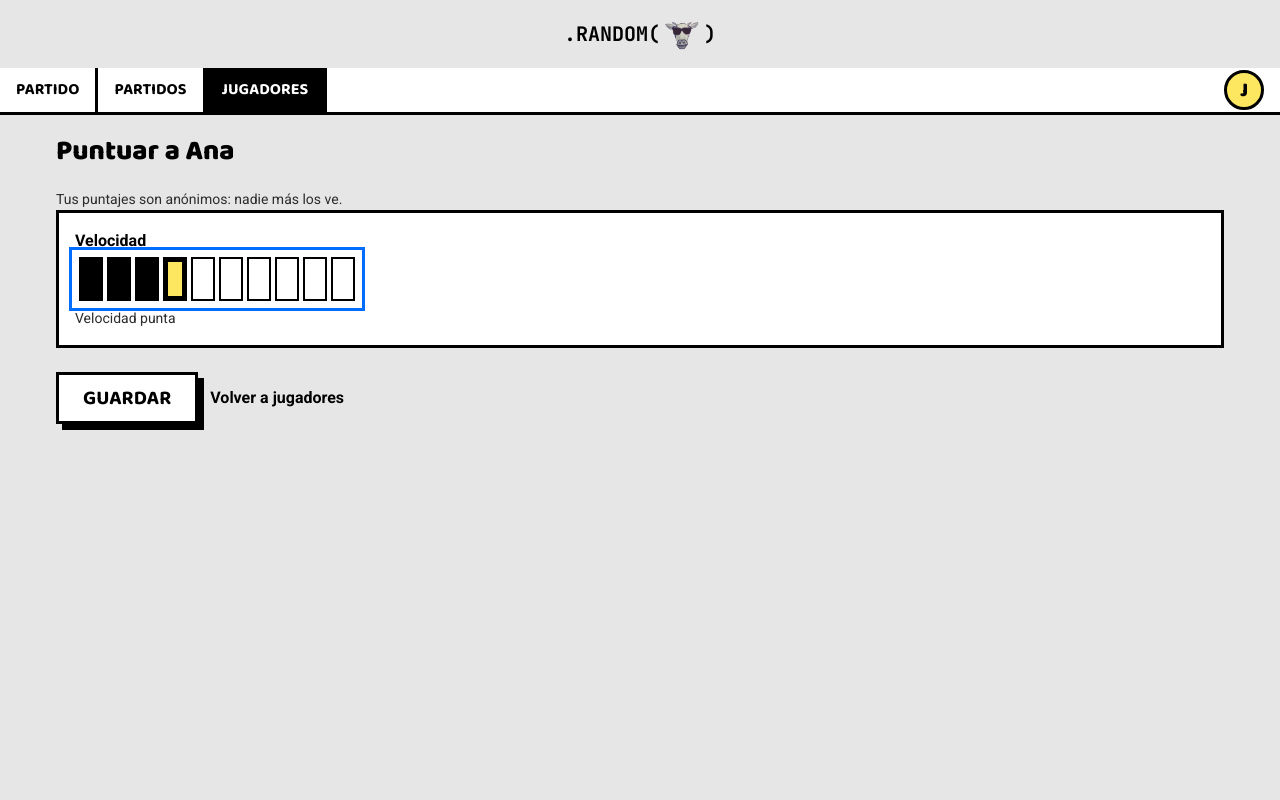
it: puntuar › cambia el valor con el teclado y guarda solo lo puntuado
The width and height of the screenshot is (1280, 800).
Press Arrowright Arrowright
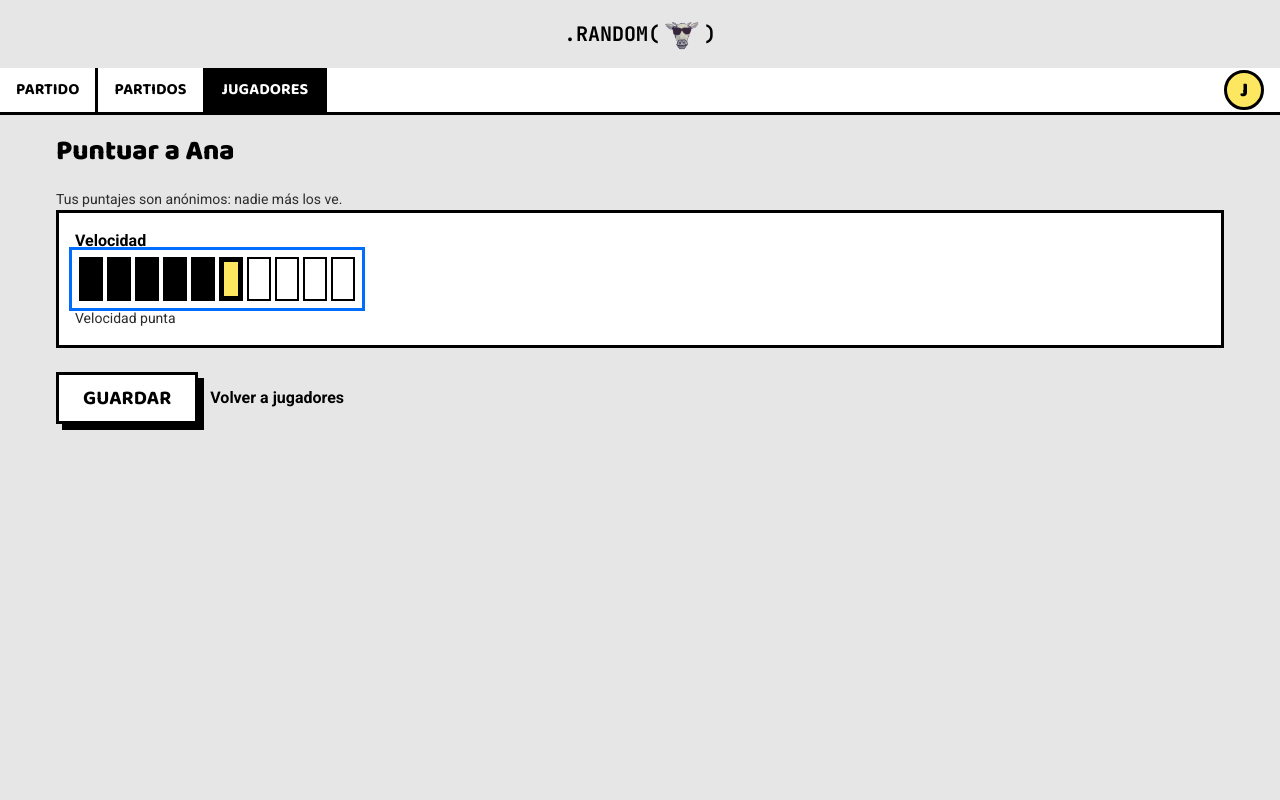
Click the button "Guardar": (127, 398) top-left (56, 372), bottom-right (198, 424)
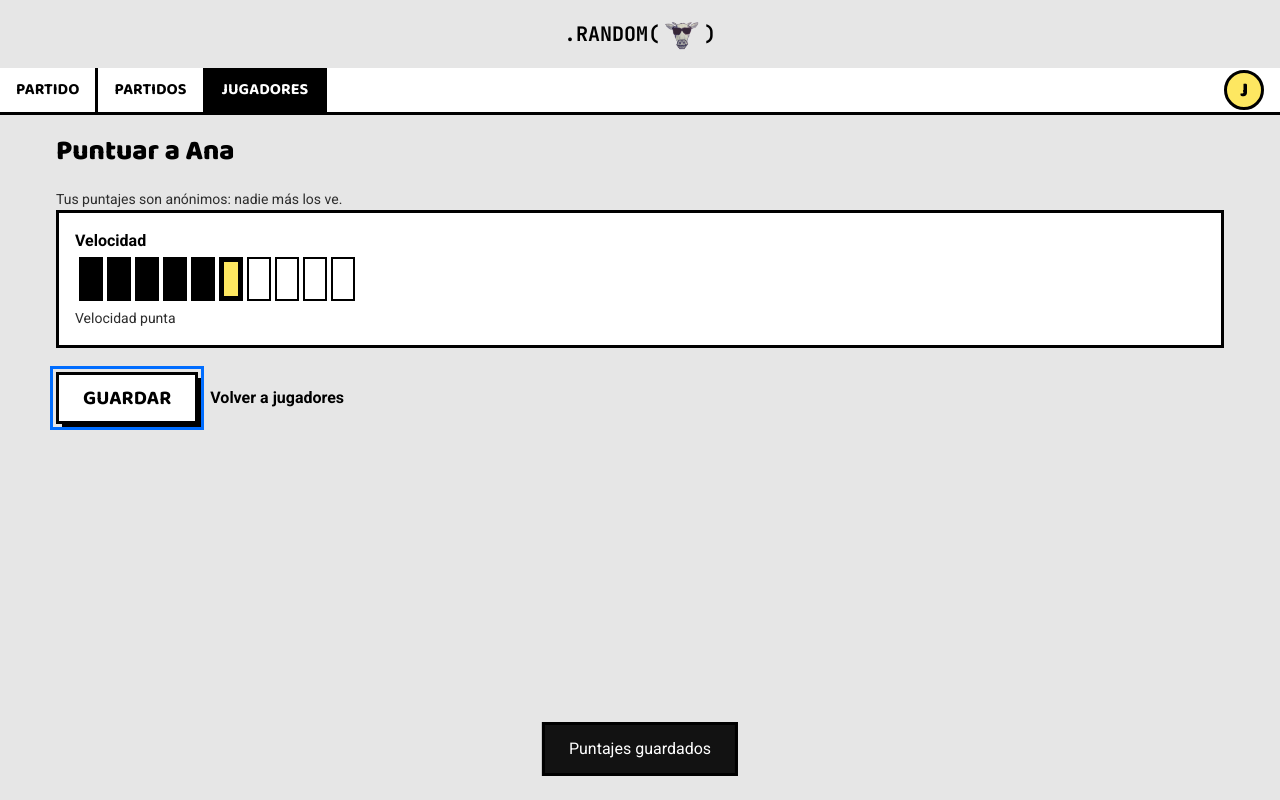
Expected: the message reads "Puntajes guardados", top-left (569, 739), bottom-right (711, 758)
